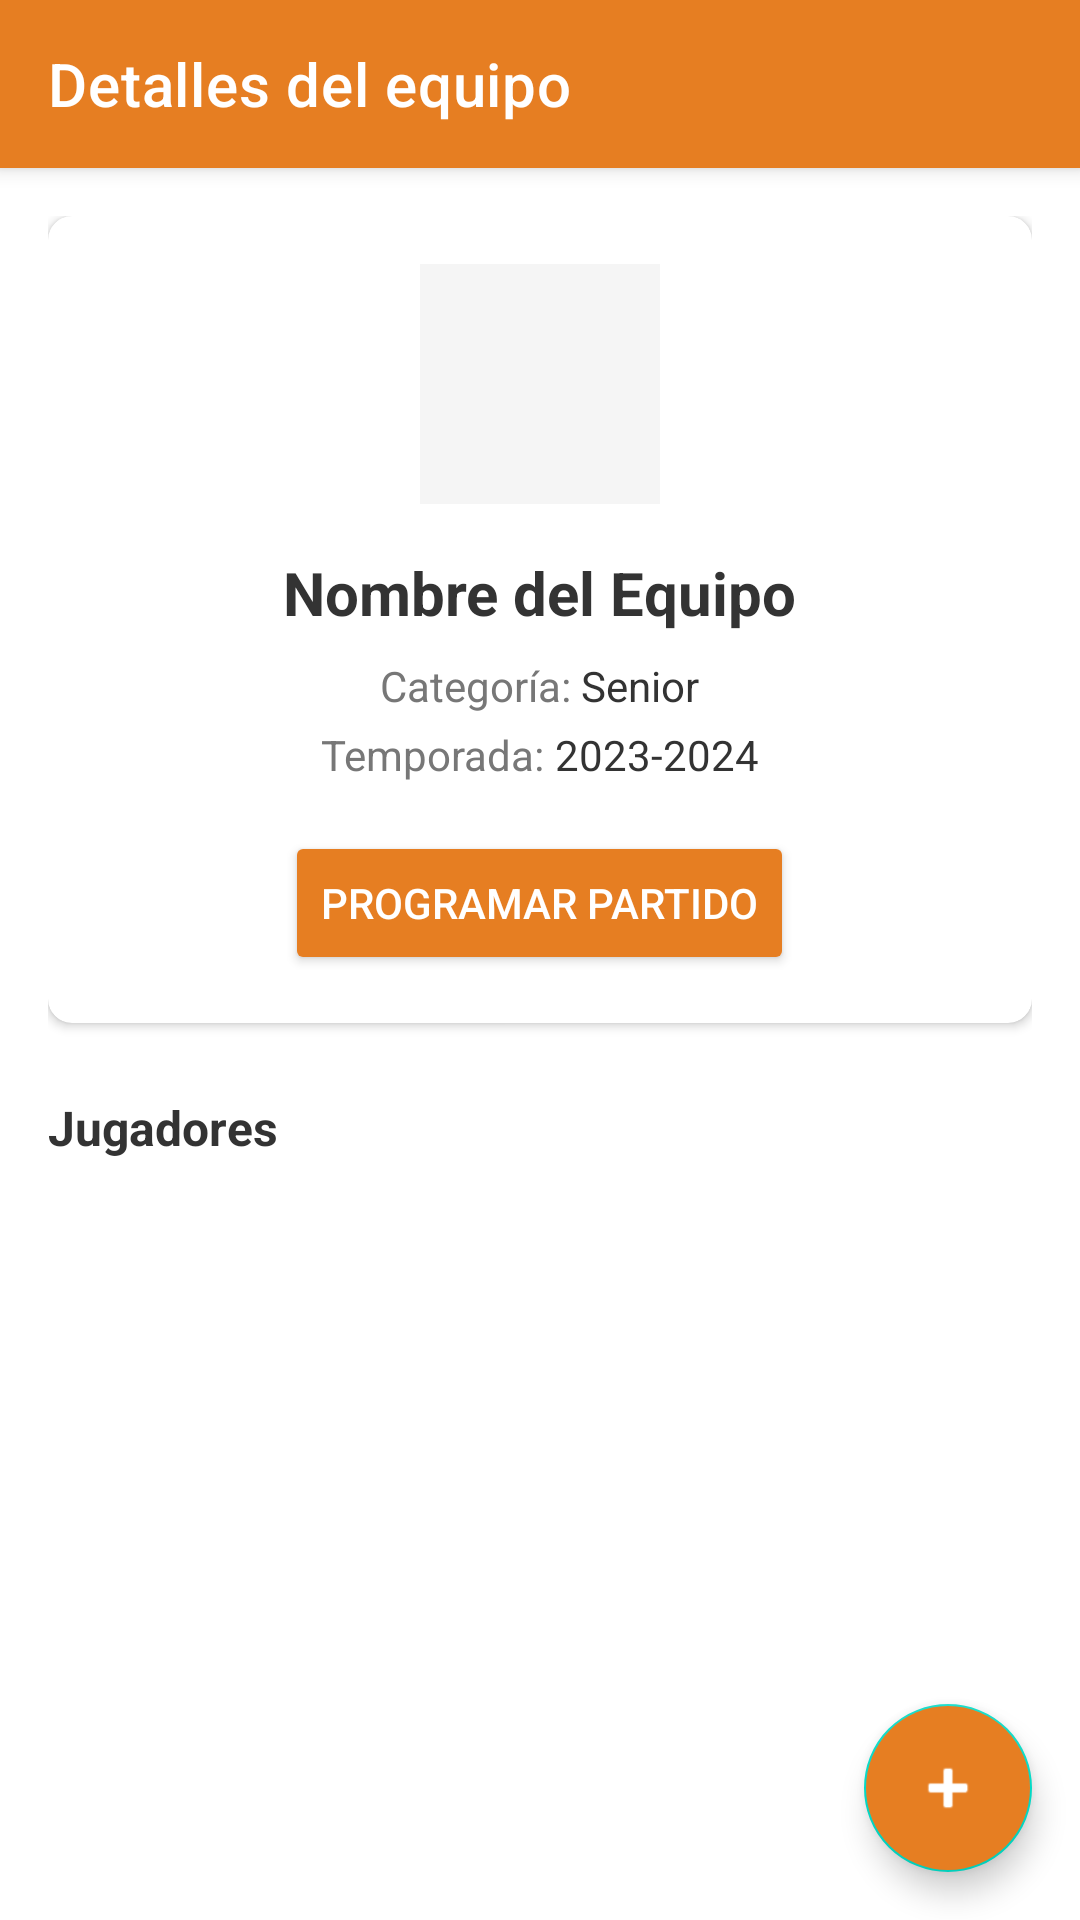

Screen size 1080×1920. Icon name, then its box in pixels as {"left": x1, "top": y1, "right": x2, "bottom": y2}:
Añadir Jugador: {"left": 864, "top": 1704, "right": 1032, "bottom": 1872}
